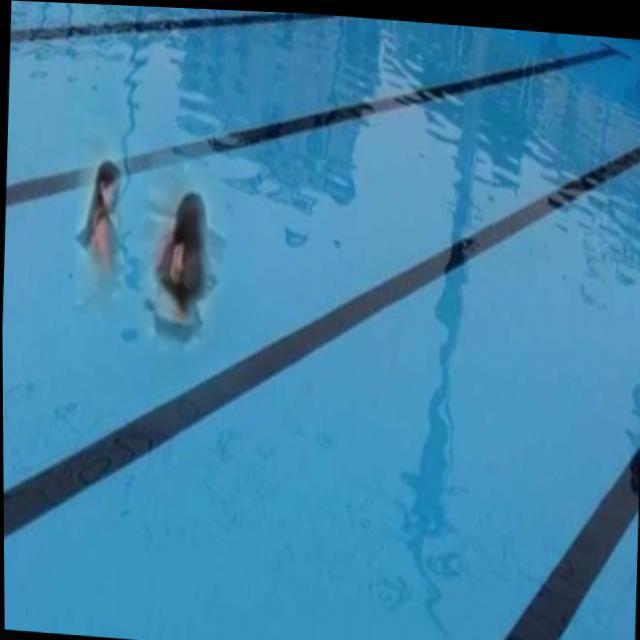swimming: (145, 187, 223, 338), (69, 161, 134, 294)
